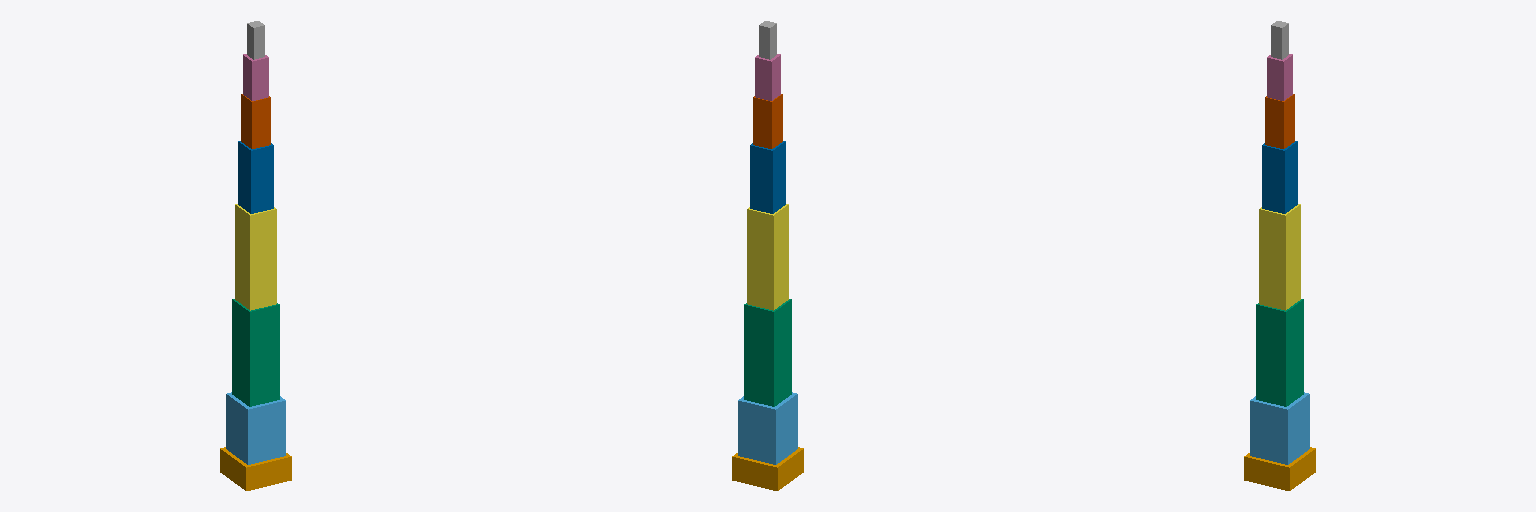
The robot description file, URDF, robot "xarm6_minimal":
<?xml version="1.0"?>
<!-- Minimal box-only URDF for xArm6-like kinematics (6 DoF). -->
<robot name="xarm6_minimal">
  <!-- Base -->
  <link name="base_link">
    <visual><origin xyz="0 0 0" rpy="0 0 0"/><geometry><box size="0.12 0.12 0.06"/></geometry></visual>
    <collision><origin xyz="0 0 0" rpy="0 0 0"/><geometry><box size="0.12 0.12 0.06"/></geometry></collision>
  </link>

  <!-- Link 1 (shoulder yaw, about Z) -->
  <link name="link1">
    <visual><origin xyz="0 0 0.07"/><geometry><box size="0.10 0.10 0.14"/></geometry></visual>
    <collision><origin xyz="0 0 0.07"/><geometry><box size="0.10 0.10 0.14"/></geometry></collision>
  </link>
  <joint name="joint1" type="revolute">
    <parent link="base_link"/>
    <child link="link1"/>
    <origin xyz="0 0 0.03" rpy="0 0 0"/>
    <axis xyz="0 0 1"/>
    <limit lower="-3.1416" upper="3.1416" effort="50" velocity="2.5"/>
  </joint>

  <!-- Link 2 (shoulder pitch, about Y) -->
  <link name="link2">
    <visual><origin xyz="0 0 0.12"/><geometry><box size="0.08 0.08 0.24"/></geometry></visual>
    <collision><origin xyz="0 0 0.12"/><geometry><box size="0.08 0.08 0.24"/></geometry></collision>
  </link>
  <joint name="joint2" type="revolute">
    <parent link="link1"/>
    <child link="link2"/>
    <origin xyz="0 0 0.14" rpy="0 0 0"/>
    <axis xyz="0 1 0"/>
    <limit lower="-2.2" upper="2.2" effort="50" velocity="2.5"/>
  </joint>

  <!-- Link 3 (elbow pitch, about Y) -->
  <link name="link3">
    <visual><origin xyz="0 0 0.12"/><geometry><box size="0.07 0.07 0.24"/></geometry></visual>
    <collision><origin xyz="0 0 0.12"/><geometry><box size="0.07 0.07 0.24"/></geometry></collision>
  </link>
  <joint name="joint3" type="revolute">
    <parent link="link2"/>
    <child link="link3"/>
    <origin xyz="0 0 0.24" rpy="0 0 0"/>
    <axis xyz="0 1 0"/>
    <limit lower="-3.1416" upper="3.1416" effort="40" velocity="2.5"/>
  </joint>

  <!-- Link 4 (wrist yaw, about Z) -->
  <link name="link4">
    <visual><origin xyz="0 0 0.08"/><geometry><box size="0.06 0.06 0.16"/></geometry></visual>
    <collision><origin xyz="0 0 0.08"/><geometry><box size="0.06 0.06 0.16"/></geometry></collision>
  </link>
  <joint name="joint4" type="revolute">
    <parent link="link3"/>
    <child link="link4"/>
    <origin xyz="0 0 0.24" rpy="0 0 0"/>
    <axis xyz="0 0 1"/>
    <limit lower="-3.1416" upper="3.1416" effort="30" velocity="3.0"/>
  </joint>

  <!-- Link 5 (wrist pitch, about Y) -->
  <link name="link5">
    <visual><origin xyz="0 0 0.06"/><geometry><box size="0.05 0.05 0.12"/></geometry></visual>
    <collision><origin xyz="0 0 0.06"/><geometry><box size="0.05 0.05 0.12"/></geometry></collision>
  </link>
  <joint name="joint5" type="revolute">
    <parent link="link4"/>
    <child link="link5"/>
    <origin xyz="0 0 0.16" rpy="0 0 0"/>
    <axis xyz="0 1 0"/>
    <limit lower="-2.6" upper="2.6" effort="30" velocity="3.0"/>
  </joint>

  <!-- Link 6 (wrist roll, about Z) -->
  <link name="link6">
    <visual><origin xyz="0 0 0.05"/><geometry><box size="0.045 0.045 0.10"/></geometry></visual>
    <collision><origin xyz="0 0 0.05"/><geometry><box size="0.045 0.045 0.10"/></geometry></collision>
  </link>
  <joint name="joint6" type="revolute">
    <parent link="link5"/>
    <child link="link6"/>
    <origin xyz="0 0 0.12" rpy="0 0 0"/>
    <axis xyz="0 0 1"/>
    <limit lower="-3.1416" upper="3.1416" effort="20" velocity="3.0"/>
  </joint>

  <!-- TCP -->
  <link name="link_tcp">
    <visual><origin xyz="0 0 0.04"/><geometry><box size="0.03 0.03 0.08"/></geometry></visual>
    <collision><origin xyz="0 0 0.04"/><geometry><box size="0.03 0.03 0.08"/></geometry></collision>
  </link>
  <joint name="tcp_fixed" type="fixed">
    <parent link="link6"/>
    <child link="link_tcp"/>
    <origin xyz="0 0 0.10" rpy="0 0 0"/>
  </joint>
</robot>

--- What the picture shows (computed from the rendered views, not written in the file) ---
3 views of the same robot in one strip: view 1: azimuth 30°, elevation 25°; view 2: azimuth 150°, elevation 25°; view 3: azimuth 330°, elevation 25° (orthographic).
Robot: xarm6_minimal — 8 links, 7 joints (6 revolute, 1 fixed); root link base_link; default pose: all joints at 0.
Visible links, largest first — view 1: link2, link3, link1, link4, base_link, link5, link6, link_tcp; view 2: link2, link3, link1, link4, base_link, link5, link6, link_tcp; view 3: link2, link3, link1, link4, base_link, link5, link6, link_tcp.
Link boxes in pixels (box(x1,y1,x2,y2)): link2: box(232, 299, 279, 406); link3: box(235, 204, 276, 310); link1: box(226, 392, 285, 464); link4: box(238, 141, 273, 213); base_link: box(220, 447, 291, 490); link5: box(241, 94, 270, 148); link6: box(243, 54, 268, 100); link_tcp: box(247, 21, 264, 59); link2: box(744, 299, 791, 406); link3: box(747, 204, 788, 310); link1: box(738, 392, 797, 464); link4: box(750, 141, 785, 213); base_link: box(732, 447, 803, 490); link5: box(753, 94, 782, 148); link6: box(755, 54, 780, 100); link_tcp: box(759, 21, 776, 59); link2: box(1256, 299, 1303, 406); link3: box(1259, 204, 1300, 310); link1: box(1250, 392, 1309, 464); link4: box(1262, 141, 1297, 213); base_link: box(1244, 447, 1315, 490); link5: box(1265, 94, 1294, 148); link6: box(1267, 54, 1292, 100); link_tcp: box(1271, 21, 1288, 59).
Bounding box of the posed robot: 0.12 × 0.12 × 1.14 m (x, y, z).
Geometry: primitives only (box / cylinder / sphere), no mesh files.
